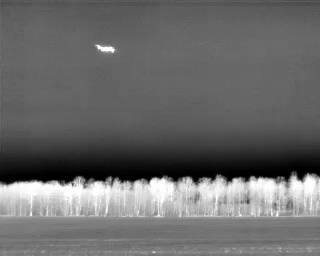DRONE: (92, 40, 119, 58)
